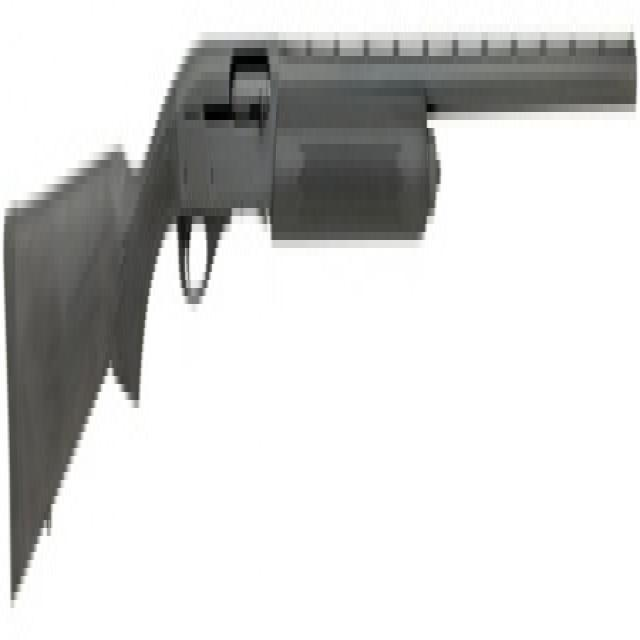rifle: (3, 1, 640, 625)
